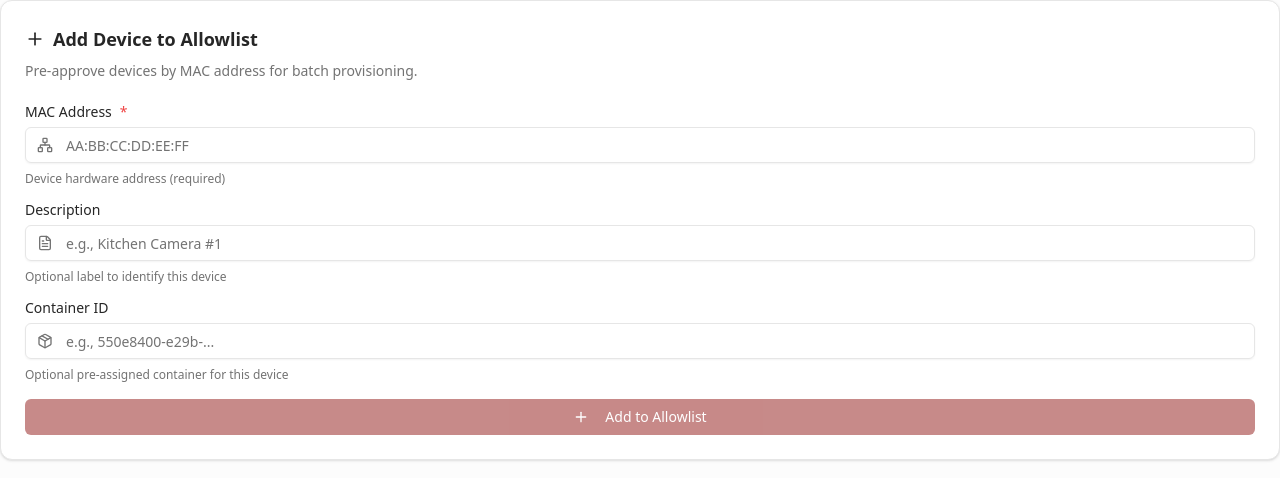
Test: AllowlistEntryForm › MAC Address Validation › shows error for invalid MAC format
Type "invalid-mac" into the field with test id "mac-input" at (640, 145), box [25, 127, 1255, 163]
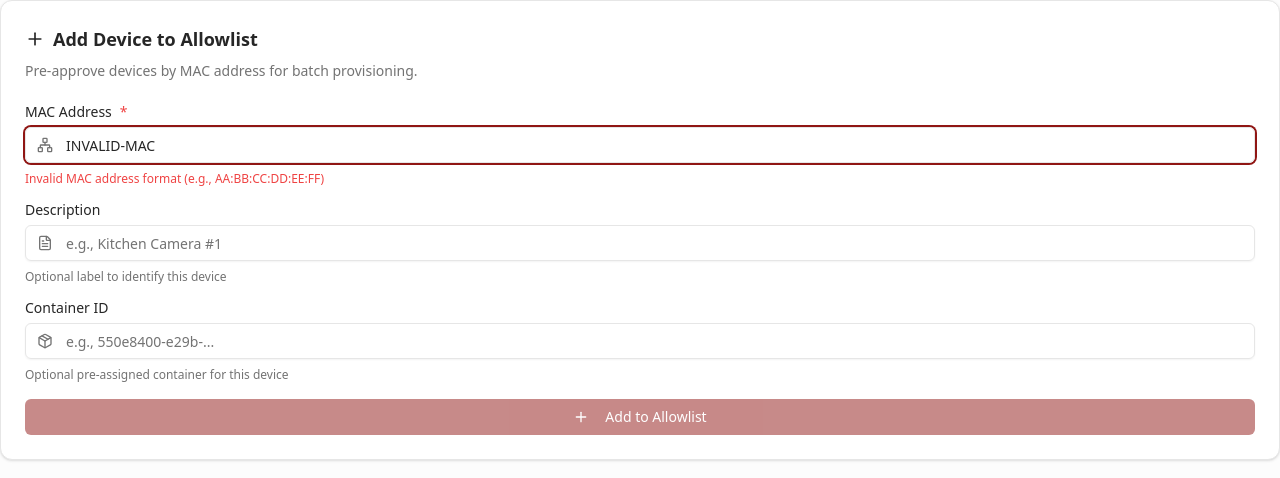
Expected: the message shows "Invalid MAC address", [25, 170, 324, 187]
